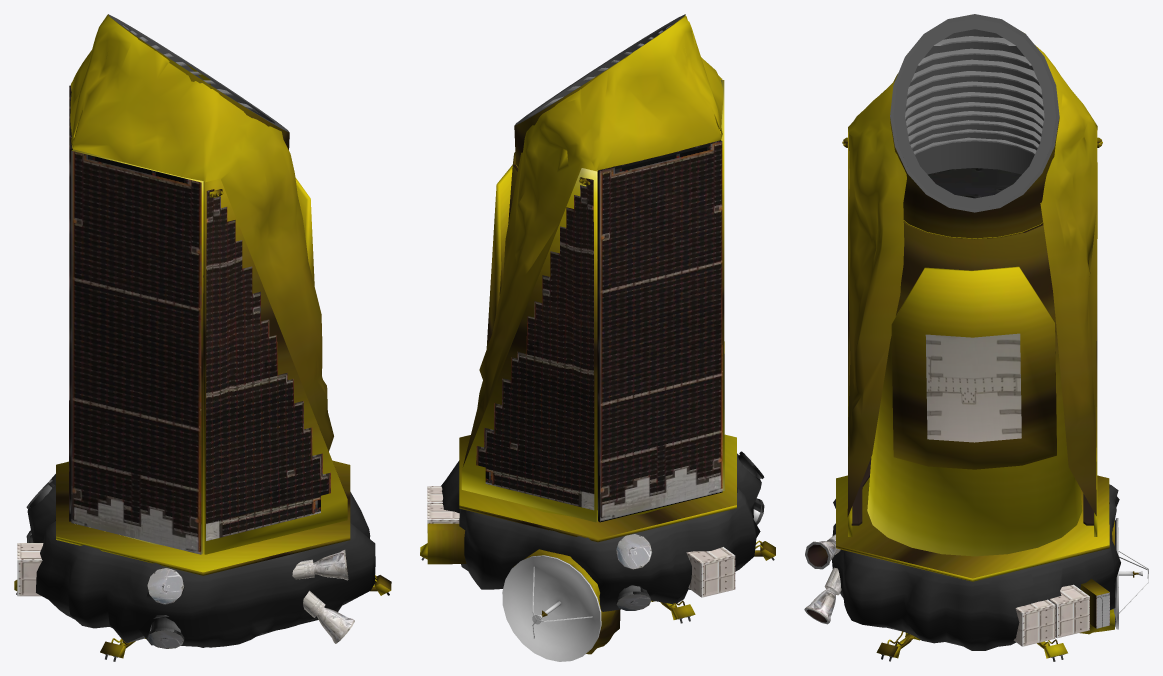
Rendered from kepler.glb.
3 views of the same model, side by side, from view 1: azimuth 30°, elevation 25°; view 2: azimuth 150°, elevation 25°; view 3: azimuth 270°, elevation 25° (orthographic). The views are drawn at different scales.
Parts seen in each view (by area): view 1: tex_01.001, foil_gold, foil_silver; view 2: tex_01.001, foil_gold, foil_silver, dish_AO; view 3: foil_gold, tex_01.001, foil_silver, dish_AO.
Boxes of the visible parts, box(x1,y1,x2,y2) form: tex_01.001: box(17, 14, 354, 648); foil_gold: box(14, 14, 391, 658); foil_silver: box(16, 474, 389, 661); tex_01.001: box(427, 14, 735, 610); foil_gold: box(420, 14, 775, 654); foil_silver: box(421, 451, 774, 623); dish_AO: box(502, 555, 601, 661); foil_gold: box(836, 45, 1138, 658); tex_01.001: box(804, 14, 1109, 646); foil_silver: box(832, 484, 1120, 661); dish_AO: box(1113, 518, 1148, 629).
Bounding box in the file's own units: 2.65 × 5.01 × 2.66.
Materials: 5 (5 with a texture image).
